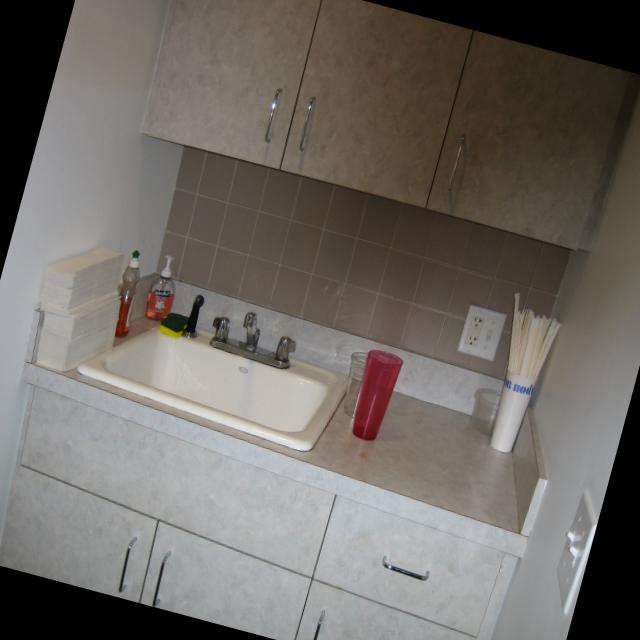Kitchen sink: (77, 311, 349, 451)
closed drawer with handle: (314, 495, 504, 638)
detergent bottle: (116, 250, 138, 336)
light: (557, 492, 596, 614)
paper cups: (490, 309, 557, 452)
plastic chair: (147, 251, 174, 321)
red glass: (351, 350, 402, 440)
white wall outlet and switch: (457, 305, 508, 360)
